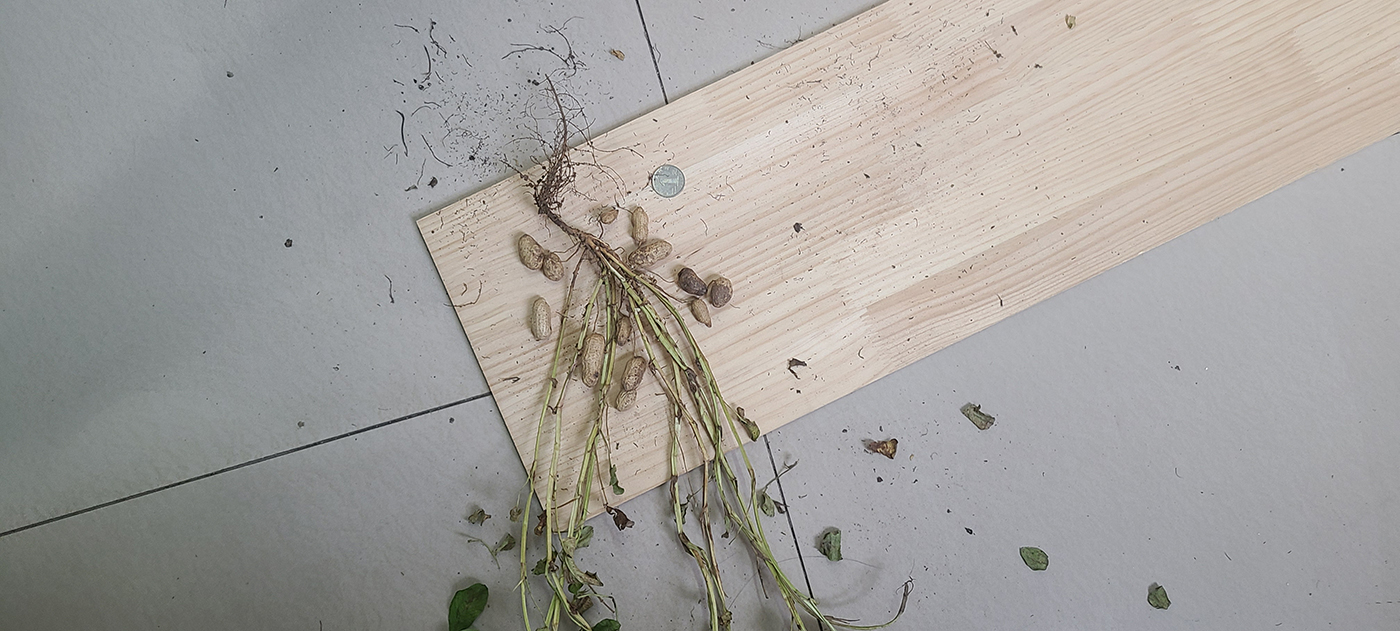h: (615, 355, 647, 412), (580, 333, 605, 387), (627, 241, 673, 267), (530, 297, 553, 341), (518, 234, 543, 270), (689, 297, 712, 330), (632, 206, 649, 245), (542, 252, 564, 281), (616, 316, 633, 346)
l: (678, 267, 708, 296), (710, 278, 734, 307)
